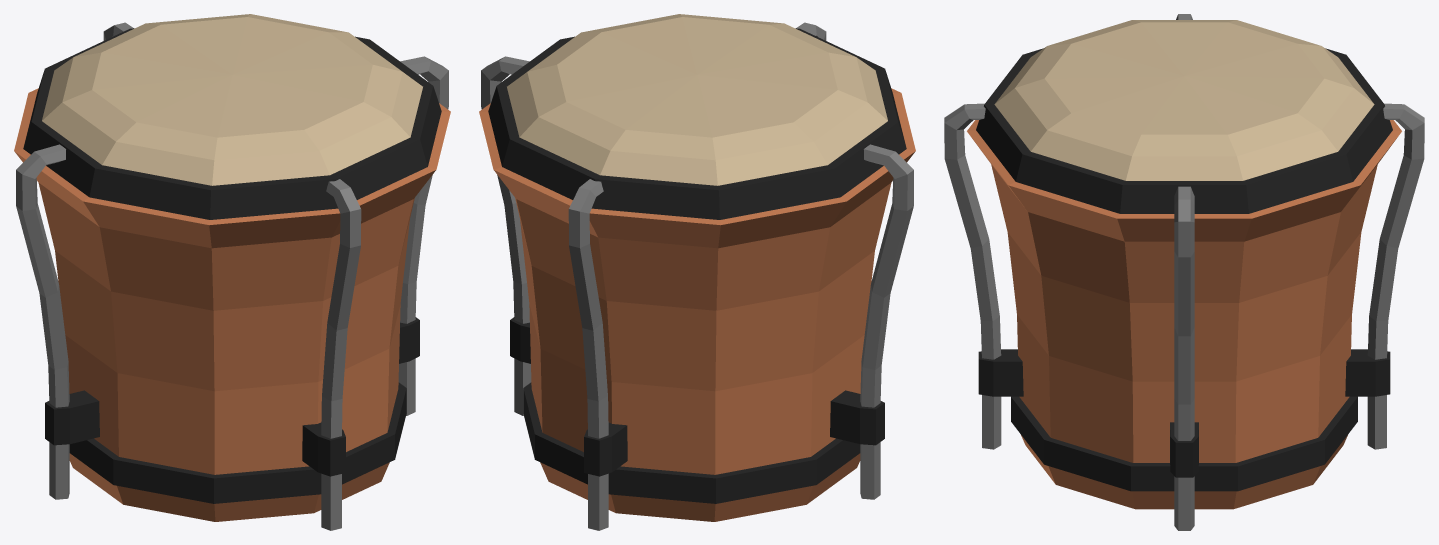
File: Int_MusicRoomBrum01_1.fbx
3 renders of one model, left to right at view 1: azimuth 30°, elevation 25°; view 2: azimuth 150°, elevation 25°; view 3: azimuth 270°, elevation 25°, orthographic. The views are drawn at different scales.
Parts seen in each view (by area): view 1: Int_MusicRoomBrum01_1; view 2: Int_MusicRoomBrum01_1; view 3: Int_MusicRoomBrum01_1.
Part boxes in pixels (x1,y1,x2,y2): Int_MusicRoomBrum01_1: (14,14,450,530); Int_MusicRoomBrum01_1: (479,14,915,530); Int_MusicRoomBrum01_1: (944,14,1424,530).
Size of what is drawn, in the model's own units: 70.73 by 70.73 by 60.02.
